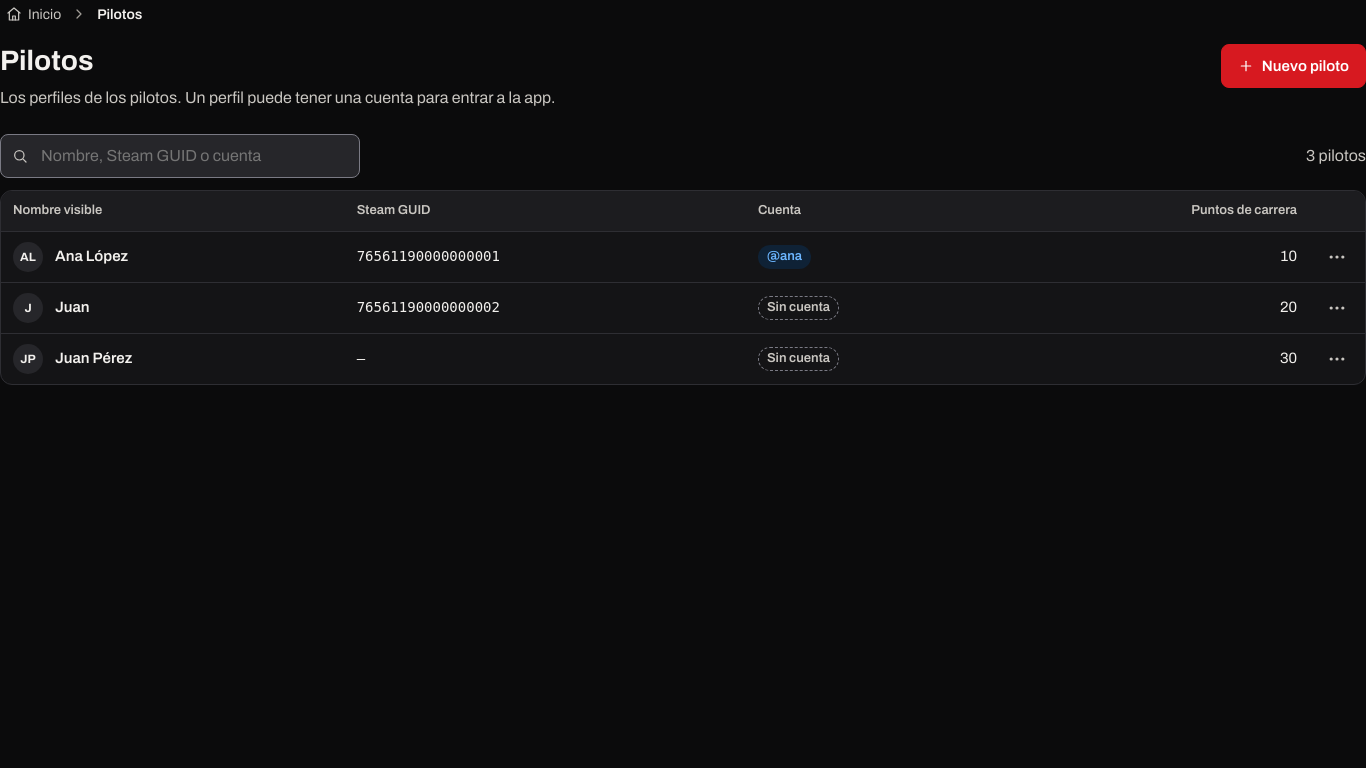
Test case: DriversPage account link › links an account from a searchable list and says it is saved
Click the button named "Acciones de Juan": point(1337, 308) [1321,286,1353,330]
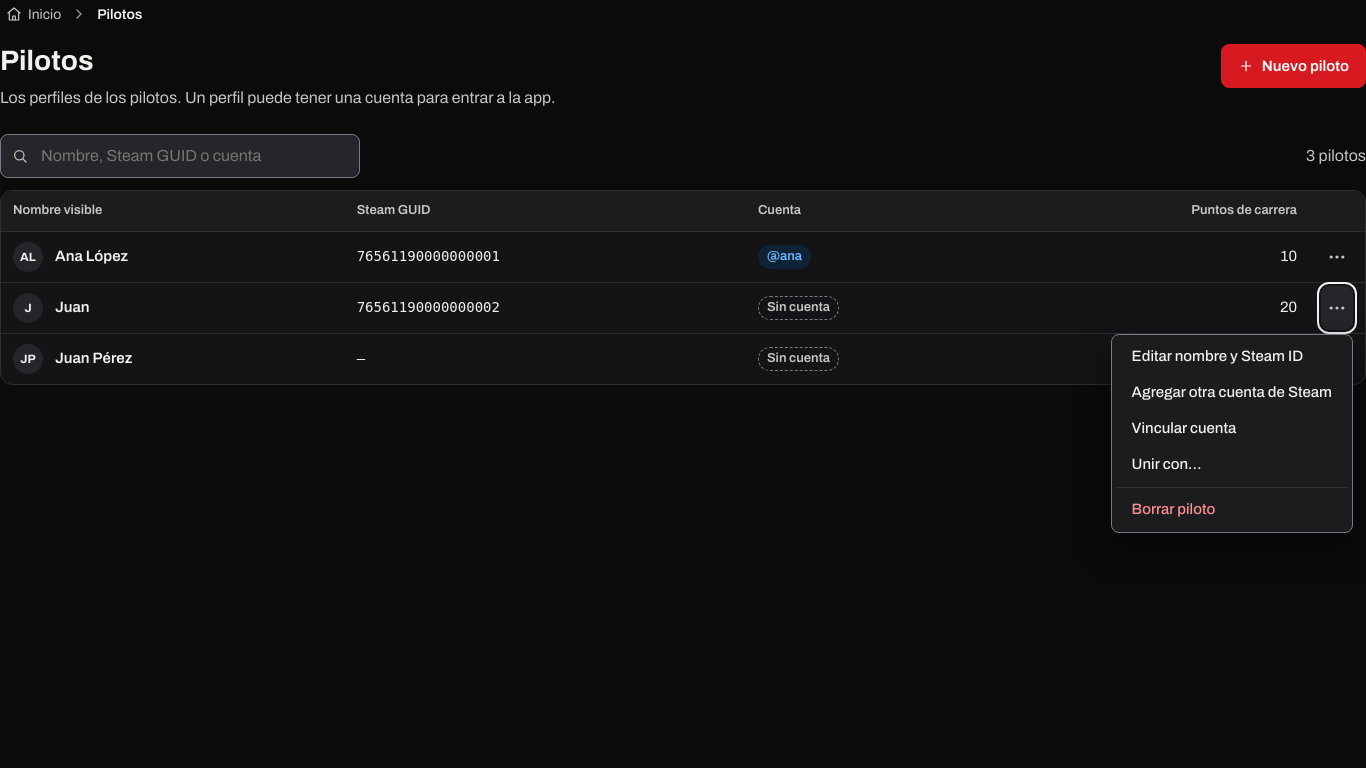
Click the button "Vincular cuenta": point(1232, 428) [1116,410,1348,446]
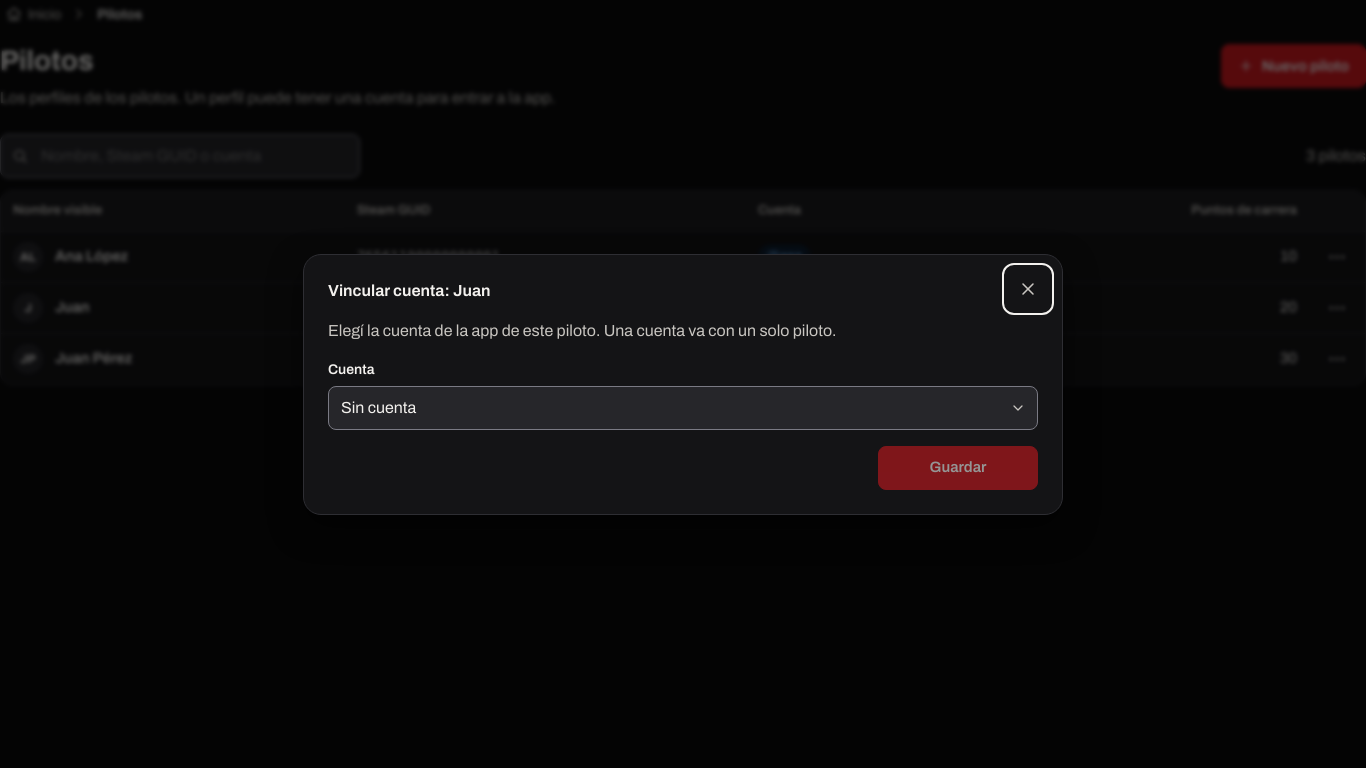
Check: the button "Guardar" is disabled, box [878,446,1038,490]
Click the dropdown labelled "Cuenta": point(683, 408) [328,386,1038,430]
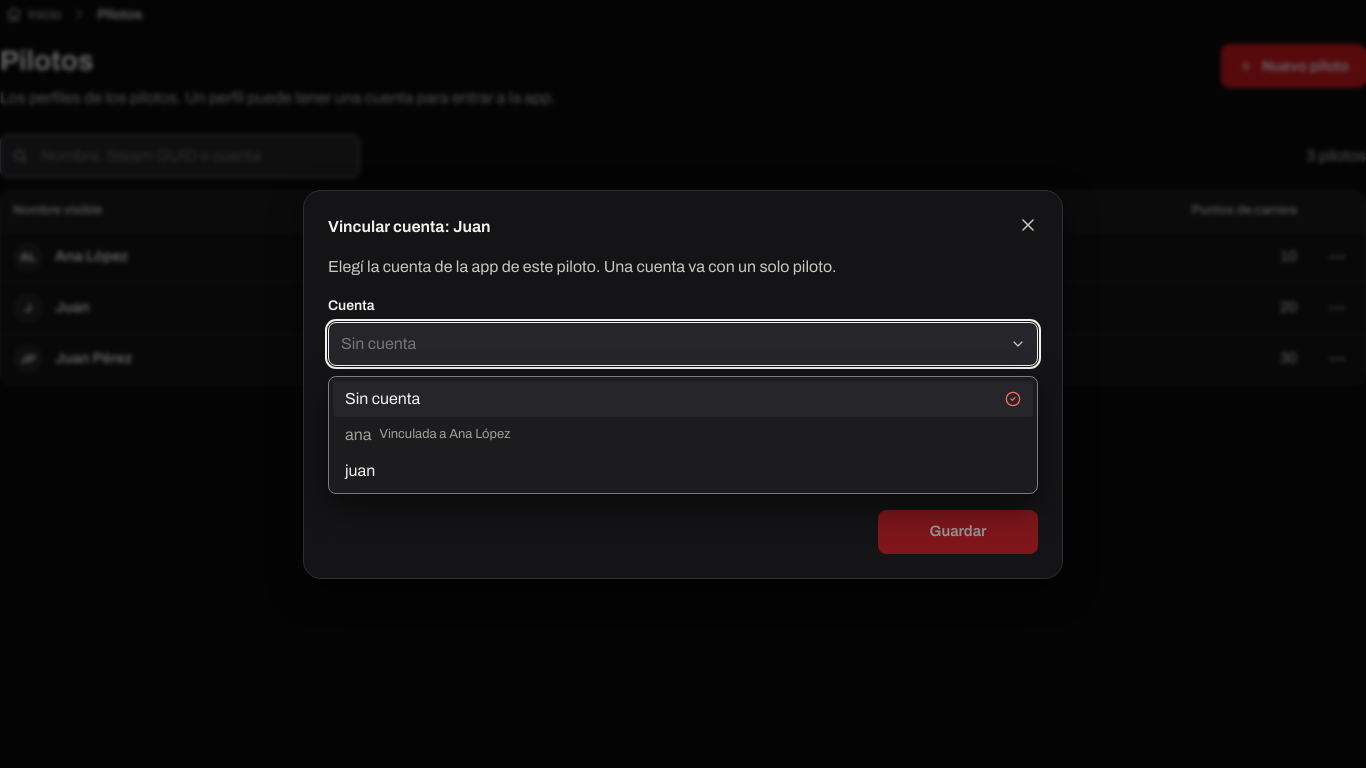
Check: the option "ana Vinculada a Ana López" is shown, box [345,426,510,442]
In the dropdown labelled "Cuenta": point(683, 344) [328,322,1038,366], type "jua"
Then press Enter
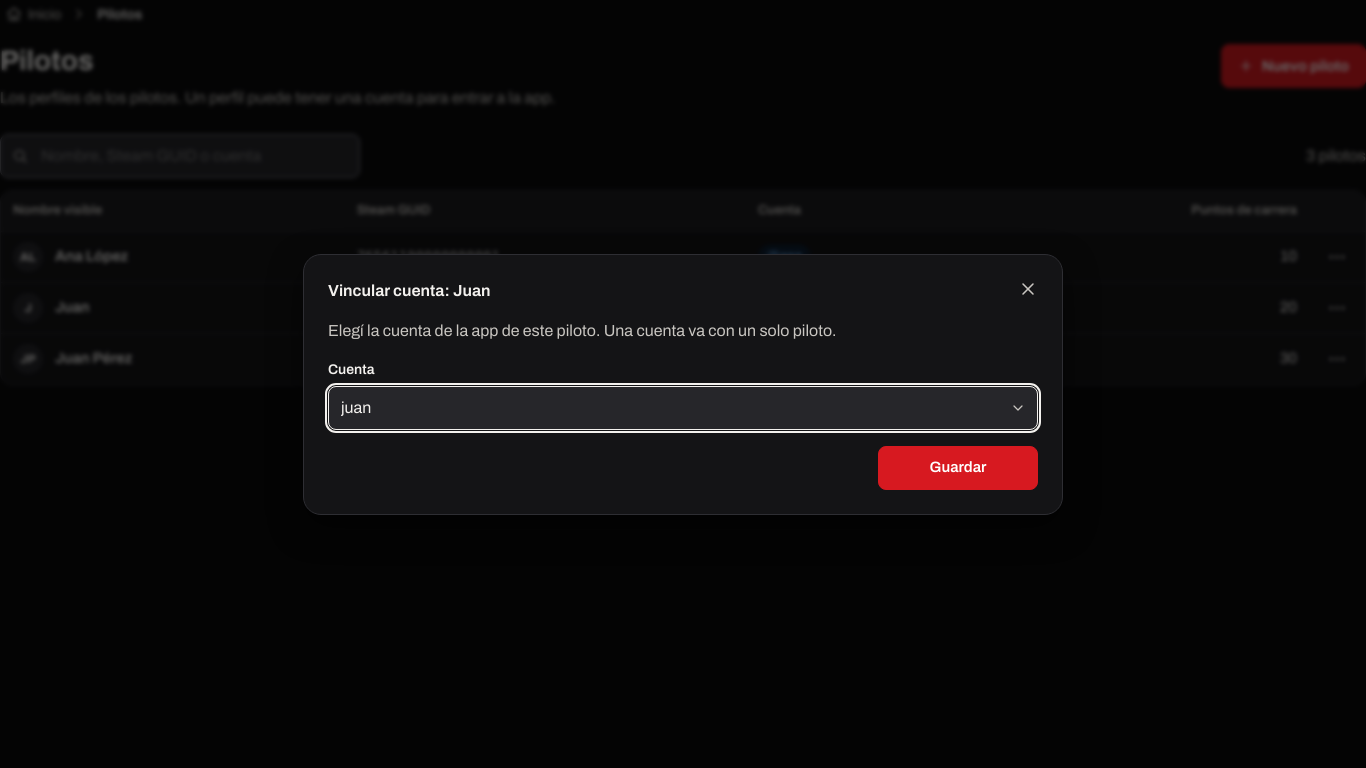
Click the button "Guardar": point(958, 468) [878,446,1038,490]
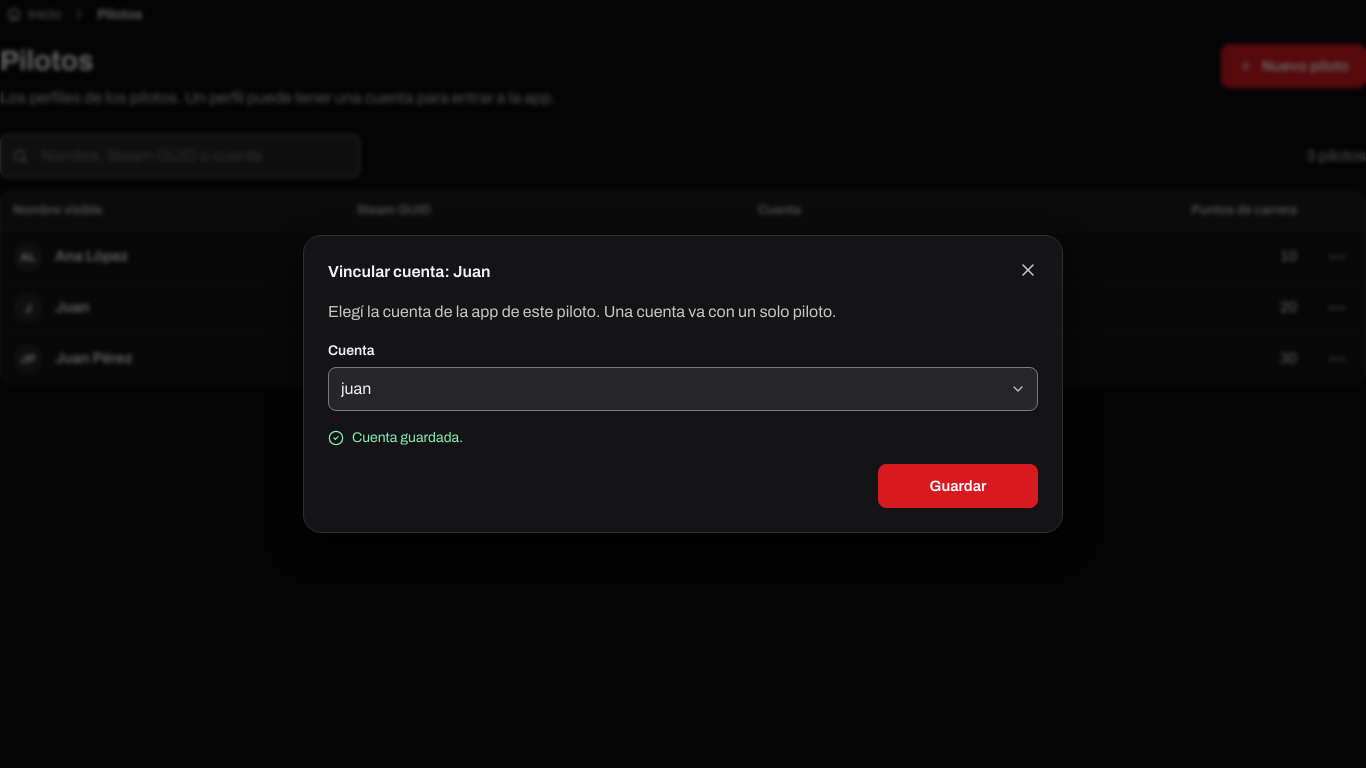
Check: the message reads "Cuenta guardada.", box [352,430,463,445]
